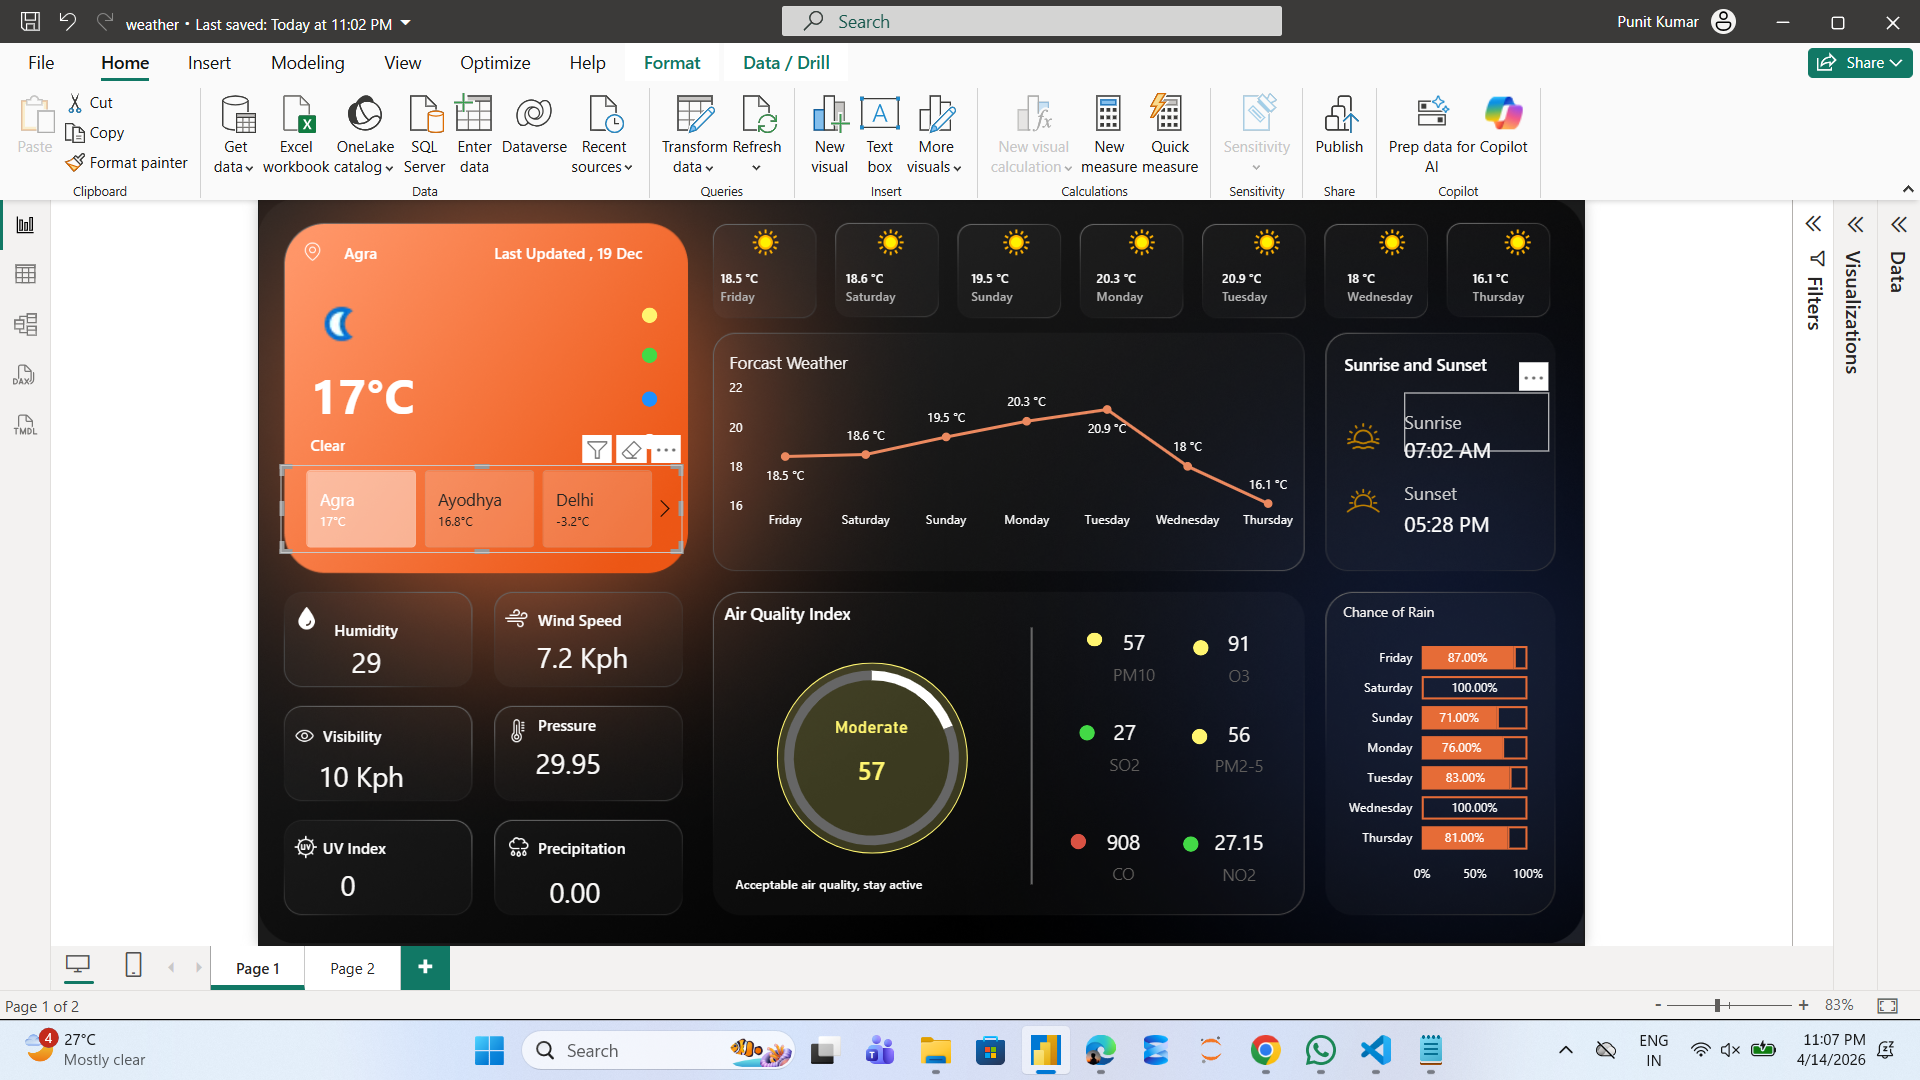

Layout of this report page (visuals, bound fields, positions):
{"tool":"powerbi","page":{"name":"Page 1","canvas":[1280,720],"ordinal":0},"visuals":[{"type":"shape","box":[500.3,445.9,184.4,184.4],"z":0},{"type":"donutChart","fields":{"Y":["Sum(Current.current.air_quality.pm10)","_Measures.Left_value_PM10"]},"box":[455,427.8,275.1,220.7],"z":1000},{"type":"advancedSlicerVisual","fields":{"Values":["Locations.location.name"]},"box":[22,255.2,387,85.1],"z":2000},{"type":"shape","box":[50.8,137.2,177,98.8],"z":3000},{"type":"shape","box":[50.8,204.5,282.7,64.5],"z":4000},{"type":"shape","box":[42.5,17.8,113.9,64.5],"z":5000},{"type":"shape","box":[227.8,17.8,157.8,64.5],"z":6000},{"type":"image","box":[42.5,41.2,20.6,17.8],"z":7000},{"type":"advancedSlicerVisual","fields":{"Values":["Current.current.condition.icon"]},"box":[22,82.3,118,75.5],"z":8000},{"type":"image","box":[26.1,506.3,37,20.6],"z":9000},{"type":"shape","box":[63.1,491.3,138.6,52.1],"z":10000},{"type":"image","box":[240.1,496.7,22,30.2],"z":11000},{"type":"shape","box":[270.3,480.3,138.6,52.1],"z":12000},{"type":"shape","box":[270.3,378.7,138.6,52.1],"z":13000},{"type":"shape","box":[1049,131.3,139.1,53.2],"z":14000},{"type":"shape","box":[63.1,599.7,138.6,52.1],"z":15000},{"type":"shape","box":[270.3,599.7,138.6,52.1],"z":16000},{"type":"image","box":[28.8,613.4,34.3,23.3],"z":17000},{"type":"image","box":[227.8,392.5,42.5,23.3],"z":18000},{"type":"image","box":[233.3,613.4,37,23.3],"z":19000},{"type":"image","box":[31.6,392.5,31.6,23.3],"z":20000},{"type":"card","fields":{"Values":["Sum(Current.current.humidity)"]},"box":[16.6,396,175.3,102.8],"z":21000},{"type":"card","fields":{"Values":["_Measures.Wind_Speed"]},"box":[231.3,399.1,163.3,86.2],"z":22000},{"type":"card","fields":{"Values":["Sum(Current.current.pressure_in)"]},"box":[211.6,494.3,176.9,101.3],"z":23000},{"type":"card","fields":{"Values":["_Measures.Visibility_Speed"]},"box":[12.1,506.4,175.3,101.3],"z":24000},{"type":"card","fields":{"Values":["Sum(Current.current.precip_in)"]},"box":[218.9,619.1,175.1,101.6],"z":25000},{"type":"card","fields":{"Values":["Sum(Current.current.uv)"]},"box":[0,612.2,173.8,101.3],"z":26000},{"type":"lineChart","title":"Forcast Weather","fields":{"Y":["Sum(Forcast_Day.forecast.forecastday.day.avgtemp_c)"],"Category":["Forcast_Day.Day_Name"]},"box":[450.2,145.4,561.2,181.3],"z":27000},{"type":"advancedSlicerVisual","fields":{"Values":["Forcast_Day.Day_Name"]},"box":[428.3,12.5,852,107.9],"z":28000},{"type":"shape","box":[73.1,388.7,138.6,52.1],"z":29000},{"type":"shape","box":[1106.8,212.6,139.1,56.3],"z":30000},{"type":"shape","box":[1106.8,283,139.1,56.3],"z":31000},{"type":"shape","box":[1106.8,186,139.1,56.3],"z":32000},{"type":"shape","box":[1106.8,254.8,139.1,56.3],"z":33000},{"type":"image","box":[1025.5,268.9,82.9,42.2],"z":34000},{"type":"image","box":[1042.7,212.6,48.5,31.3],"z":35000},{"type":"hundredPercentStackedBarChart","title":"Chance of Rain","fields":{"Category":["Forcast_Day.Day_Name"],"Y":["Sum(Forcast_Day.forecast.forecastday.day.daily_chance_of_rain)","_Measures.Left_value_Rain"]},"box":[1042.9,388.3,203.1,279.9],"z":36000},{"type":"shape","box":[450.5,371.8,139.1,52.9],"z":37000},{"type":"card","fields":{"Values":["Sum(Current.current.air_quality.pm10)"]},"box":[781.8,403,127.9,73.6],"z":38000},{"type":"card","fields":{"Values":["Sum(Current.current.air_quality.o3)"]},"box":[883.5,402.4,128,74.6],"z":39000},{"type":"card","fields":{"Values":["Sum(Current.current.air_quality.so2)"]},"box":[772.1,489.8,129.1,73.6],"z":40000},{"type":"card","fields":{"Values":["Sum(Current.current.air_quality.pm2_5)"]},"box":[883.1,491,127.9,73.6],"z":41000},{"type":"card","fields":{"Values":["Sum(Current.current.air_quality.co)"]},"box":[770.9,594.8,129.1,74.8],"z":42000},{"type":"card","fields":{"Values":["Sum(Current.current.air_quality.no2)"]},"box":[883.1,596,127.9,73.6],"z":43000},{"type":"shape","box":[799.6,417.2,15.1,13.6],"z":44000},{"type":"shape","box":[784.5,612.2,15.1,15.1],"z":45000},{"type":"shape","box":[902.4,424.8,15.1,15.1],"z":46000},{"type":"shape","box":[900.9,510.9,15.1,15.1],"z":47000},{"type":"shape","box":[893.3,613.7,15.1,15.1],"z":48000},{"type":"shape","box":[792.1,506.4,15.1,15.1],"z":49000},{"type":"shape","box":[657.5,412.7,178.4,247.9],"z":50000},{"type":"card","fields":{"Values":["Sum(Current.current.air_quality.pm10)"]},"box":[527.5,498.8,130,87.7],"z":51000},{"type":"shape","box":[461,633.4,250.9,52.9],"z":52000},{"type":"shape","box":[370.3,104.3,15.1,15.1],"z":53000},{"type":"shape","box":[370.3,142.1,15.1,15.1],"z":54000},{"type":"shape","box":[370.3,184.4,15.1,15.1],"z":55000},{"type":"shape","box":[370.3,225.2,15.1,15.1],"z":56000}]}

Visuals, with their boxes on the page's 1280x720 design canvas (x1, y1, x2, y2). These are canvas units, not pixel positions in the 1920x1080 screenshot, which may show the page scaled, cropped or inside an application window:
shape: region(500, 446, 685, 630)
donutChart - Sum(Current.current.air_quality.pm10) x _Measures.Left_value_PM10: region(455, 428, 730, 648)
advancedSlicerVisual - Locations.location.name: region(22, 255, 409, 340)
shape: region(51, 137, 228, 236)
shape: region(51, 204, 334, 269)
shape: region(42, 18, 156, 82)
shape: region(228, 18, 386, 82)
image: region(42, 41, 63, 59)
advancedSlicerVisual - Current.current.condition.icon: region(22, 82, 140, 158)
image: region(26, 506, 63, 527)
shape: region(63, 491, 202, 543)
image: region(240, 497, 262, 527)
shape: region(270, 480, 409, 532)
shape: region(270, 379, 409, 431)
shape: region(1049, 131, 1188, 184)
shape: region(63, 600, 202, 652)
shape: region(270, 600, 409, 652)
image: region(29, 613, 63, 637)
image: region(228, 392, 270, 416)
image: region(233, 613, 270, 637)
image: region(32, 392, 63, 416)
card - Sum(Current.current.humidity): region(17, 396, 192, 499)
card - _Measures.Wind_Speed: region(231, 399, 395, 485)
card - Sum(Current.current.pressure_in): region(212, 494, 388, 596)
card - _Measures.Visibility_Speed: region(12, 506, 187, 608)
card - Sum(Current.current.precip_in): region(219, 619, 394, 721)
card - Sum(Current.current.uv): region(0, 612, 174, 714)
"Forcast Weather" lineChart: region(450, 145, 1011, 327)
advancedSlicerVisual - Forcast_Day.Day_Name: region(428, 12, 1280, 120)
shape: region(73, 389, 212, 441)
shape: region(1107, 213, 1246, 269)
shape: region(1107, 283, 1246, 339)
shape: region(1107, 186, 1246, 242)
shape: region(1107, 255, 1246, 311)
image: region(1026, 269, 1108, 311)
image: region(1043, 213, 1091, 244)
"Chance of Rain" hundredPercentStackedBarChart: region(1043, 388, 1246, 668)
shape: region(450, 372, 590, 425)
card - Sum(Current.current.air_quality.pm10): region(782, 403, 910, 477)
card - Sum(Current.current.air_quality.o3): region(884, 402, 1012, 477)
card - Sum(Current.current.air_quality.so2): region(772, 490, 901, 563)
card - Sum(Current.current.air_quality.pm2_5): region(883, 491, 1011, 565)
card - Sum(Current.current.air_quality.co): region(771, 595, 900, 670)
card - Sum(Current.current.air_quality.no2): region(883, 596, 1011, 670)
shape: region(800, 417, 815, 431)
shape: region(784, 612, 800, 627)
shape: region(902, 425, 918, 440)
shape: region(901, 511, 916, 526)
shape: region(893, 614, 908, 629)
shape: region(792, 506, 807, 522)
shape: region(658, 413, 836, 661)
card - Sum(Current.current.air_quality.pm10): region(528, 499, 658, 586)
shape: region(461, 633, 712, 686)
shape: region(370, 104, 385, 119)
shape: region(370, 142, 385, 157)
shape: region(370, 184, 385, 200)
shape: region(370, 225, 385, 240)
